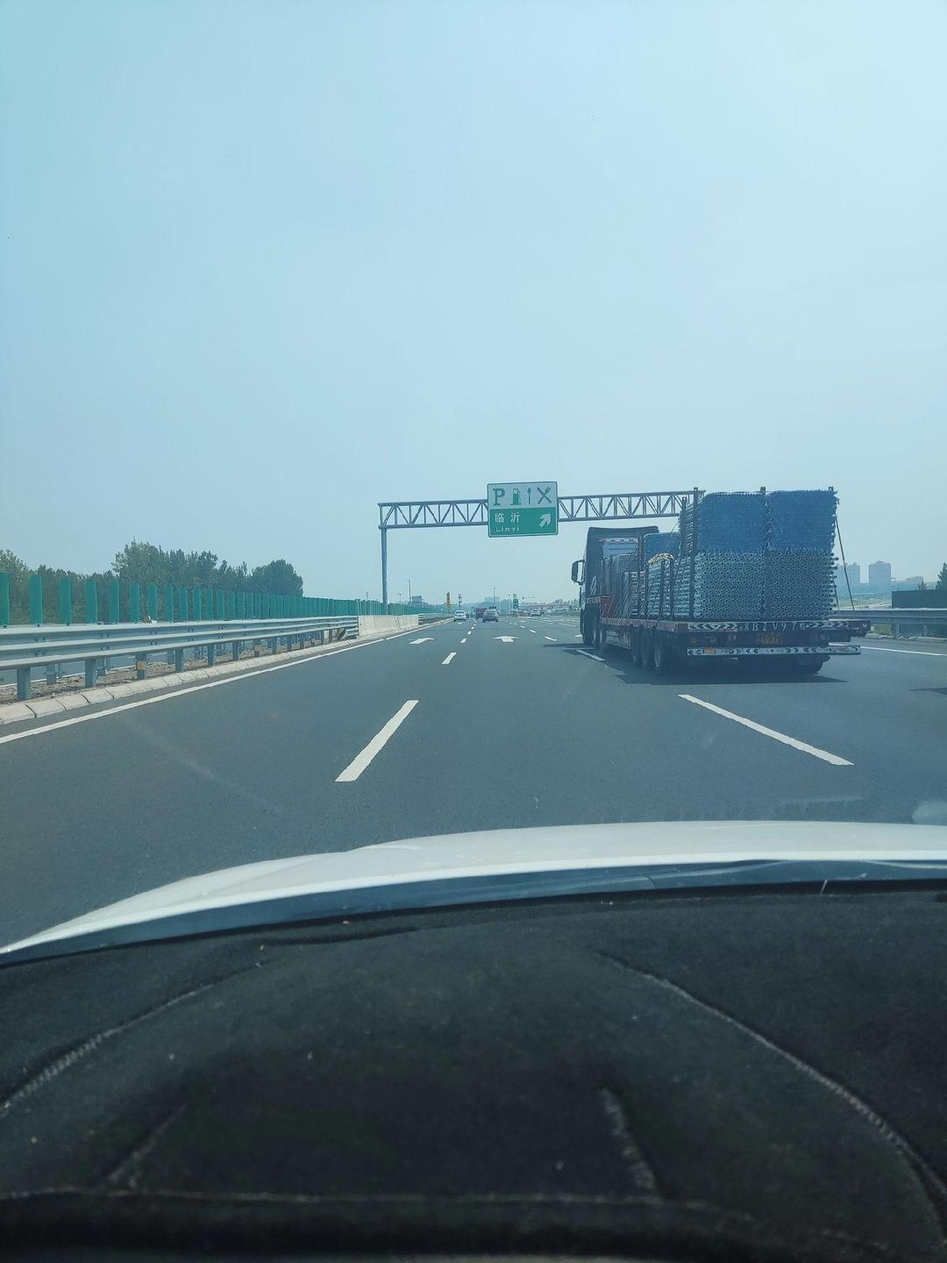lane: (670, 688, 853, 766), (336, 692, 418, 783), (505, 617, 562, 645), (870, 644, 928, 658), (572, 647, 607, 667), (466, 619, 481, 644), (442, 650, 457, 665)
